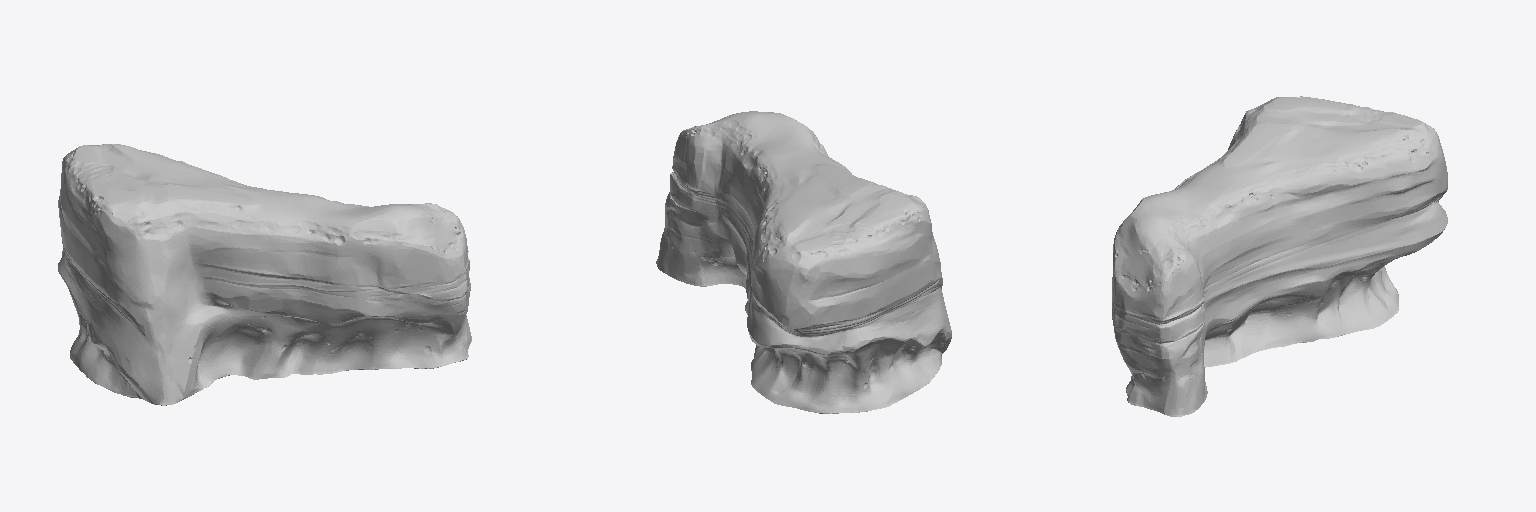
Rendered from Cliff_bort04_low.obj.
3 views of the same model, side by side, from view 1: azimuth 30°, elevation 25°; view 2: azimuth 150°, elevation 25°; view 3: azimuth 270°, elevation 25° (orthographic).
Bounding box in the file's own units: 109 × 57.63 × 98.02.